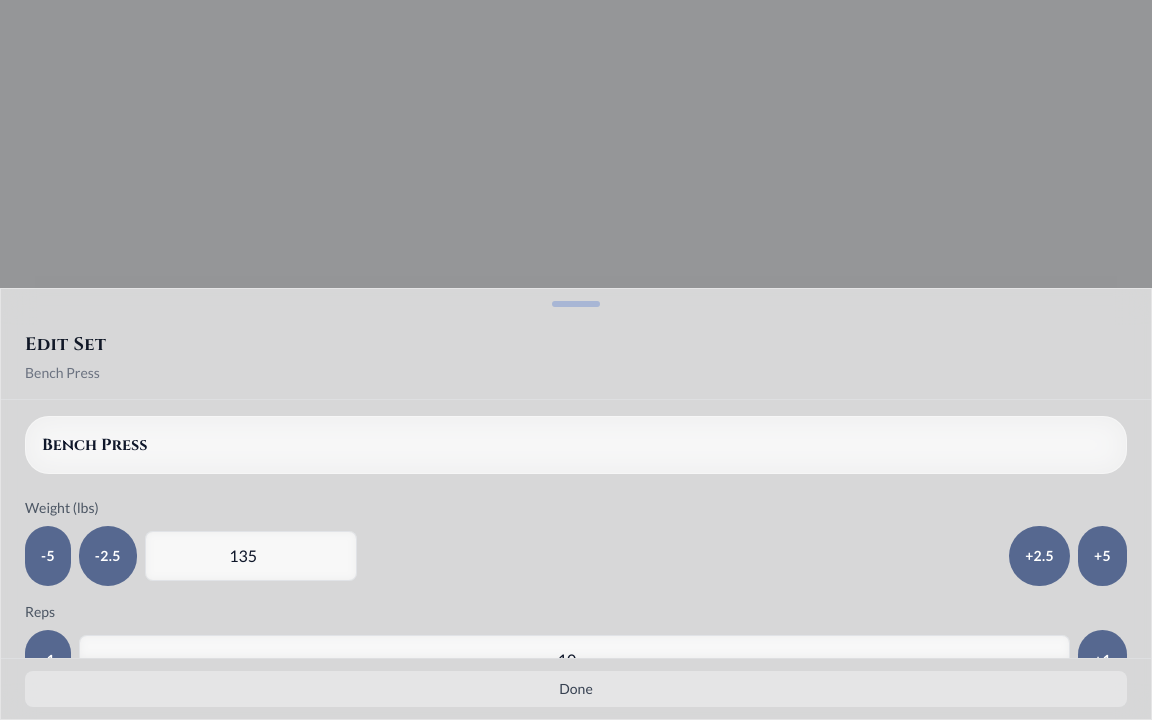
Test: SetEditModal › decrements weight when -5 button is clicked
This screenshot has width=1152, height=720.
Step 1. Click the button "-5" → (48, 556), box [25,526,71,586]
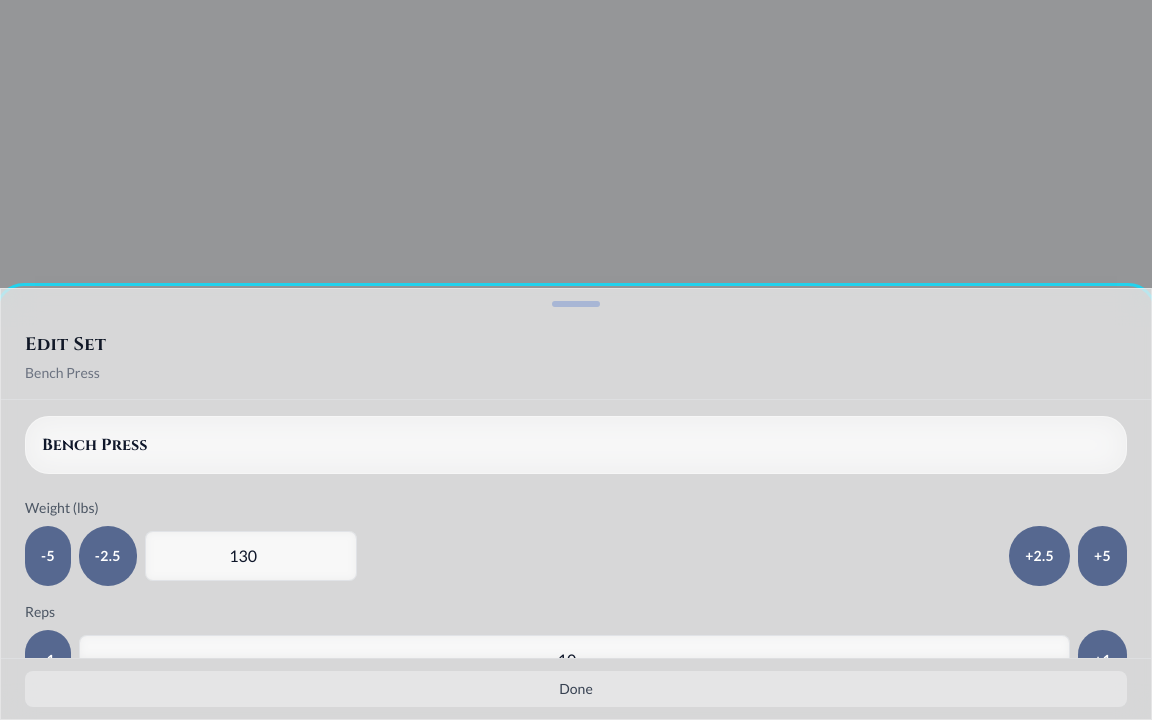
Now the number field showing "130" is shown, box [145,531,357,581]
